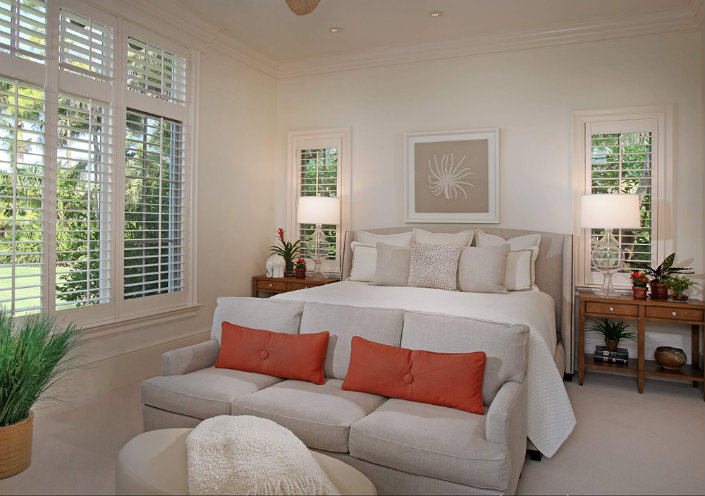chairs: (142, 294, 537, 495)
